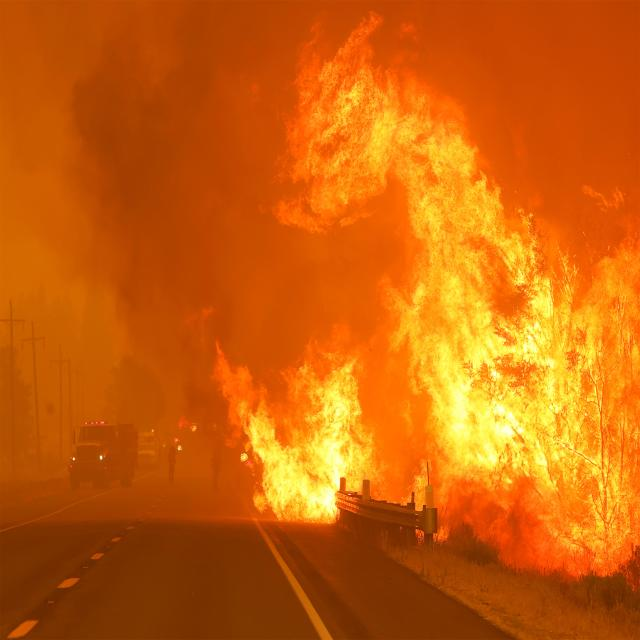fire: (380, 42, 636, 527), (214, 325, 374, 542)
